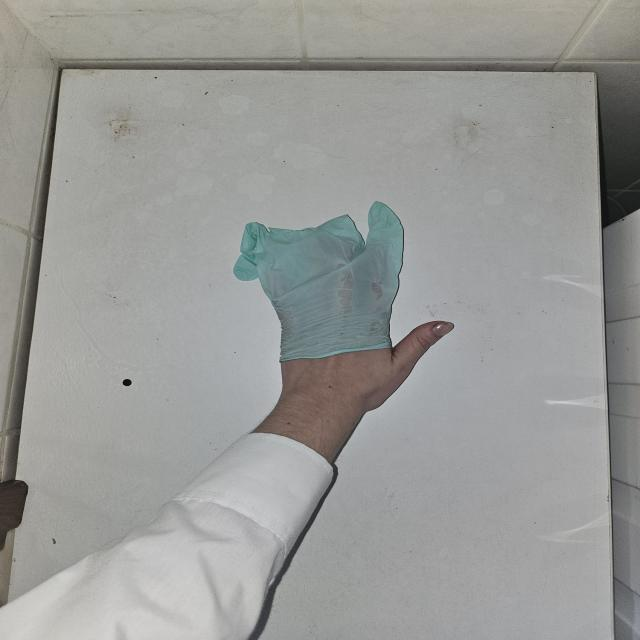glove_partial: (232, 199, 454, 414)
